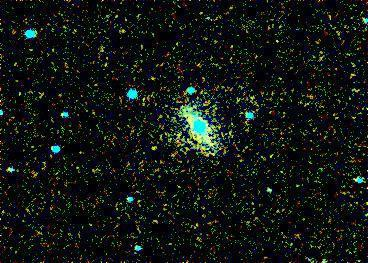star: (140, 133, 170, 163)
